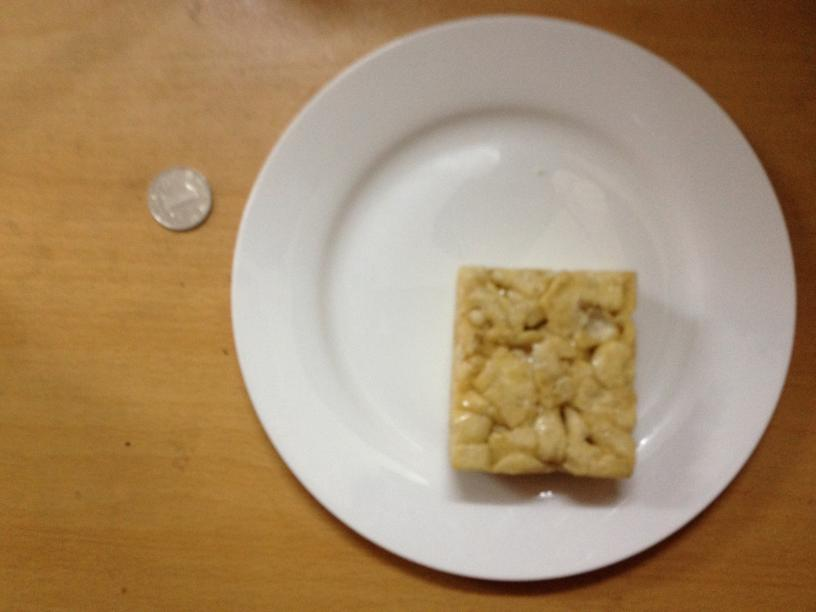coin: (144, 168, 213, 230)
sachima: (443, 261, 644, 478)
